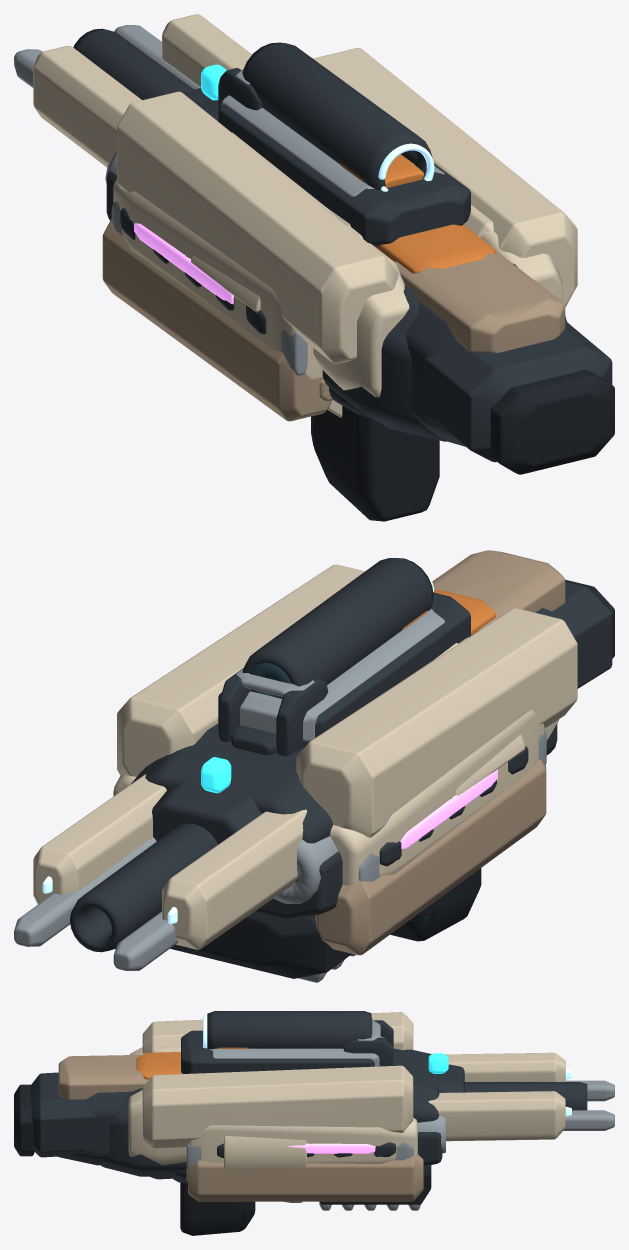
Rendered from Arsenal.fbx.
The picture shows the model from 3 angles, top to bottom: view 1: azimuth 30°, elevation 25°; view 2: azimuth 150°, elevation 25°; view 3: azimuth 270°, elevation 25°; orthographic projection. The views are drawn at different scales.
Parts seen in each view (by area): view 1: rift_Receiver_Mount, lance_Receiver_Mount, pulse_Receiver_Mount, arc_Receiver_Mount, scatter_Receiver_Mount, scatter_Chamber_Mount; view 2: rift_Receiver_Mount, lance_Receiver_Mount, scatter_Receiver_Mount, pulse_Receiver_Mount, arc_Receiver_Mount, scatter_Chamber_Mount; view 3: rift_Receiver_Mount, lance_Receiver_Mount, scatter_Receiver_Mount, pulse_Receiver_Mount, arc_Receiver_Mount, scatter_Chamber_Mount.
Boxes of the visible parts, x1=… form: rift_Receiver_Mount: x1=102, y1=48, x2=577, y2=441; lance_Receiver_Mount: x1=14, y1=14, x2=614, y2=474; pulse_Receiver_Mount: x1=201, y1=64, x2=562, y2=427; arc_Receiver_Mount: x1=232, y1=132, x2=493, y2=521; scatter_Receiver_Mount: x1=105, y1=152, x2=369, y2=417; scatter_Chamber_Mount: x1=191, y1=255, x2=260, y2=312; rift_Receiver_Mount: x1=117, y1=564, x2=577, y2=955; lance_Receiver_Mount: x1=14, y1=550, x2=614, y2=970; scatter_Receiver_Mount: x1=113, y1=710, x2=543, y2=982; pulse_Receiver_Mount: x1=201, y1=590, x2=559, y2=793; arc_Receiver_Mount: x1=390, y1=637, x2=481, y2=941; scatter_Chamber_Mount: x1=455, y1=734, x2=525, y2=795; rift_Receiver_Mount: x1=91, y1=1012, x2=439, y2=1201; lance_Receiver_Mount: x1=14, y1=1011, x2=614, y2=1165; scatter_Receiver_Mount: x1=171, y1=1116, x2=445, y2=1210; pulse_Receiver_Mount: x1=82, y1=1020, x2=448, y2=1180; arc_Receiver_Mount: x1=153, y1=1176, x2=302, y2=1235; scatter_Chamber_Mount: x1=224, y1=1136, x2=306, y2=1170.
Size of the model in its own units: 0.3009 by 0.383 by 0.939.
